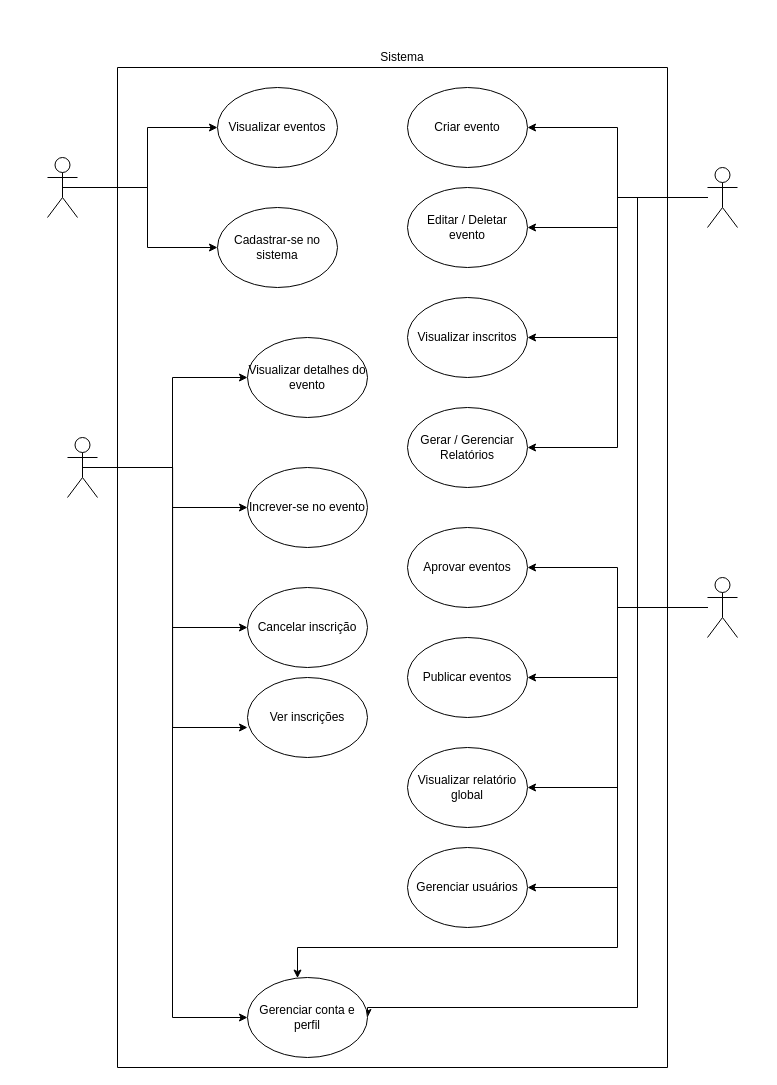
Some shapes in this 777 by 1085 pixel diagram are drawn without their labels. Each missing label, with the centre of its shape:
"Administrador" belongs at [722,607].
"Organizador" belongs at [722,197].
"Participante" belongs at [82,467].
"Usuá rio Anô nimo" belongs at [62,187].
